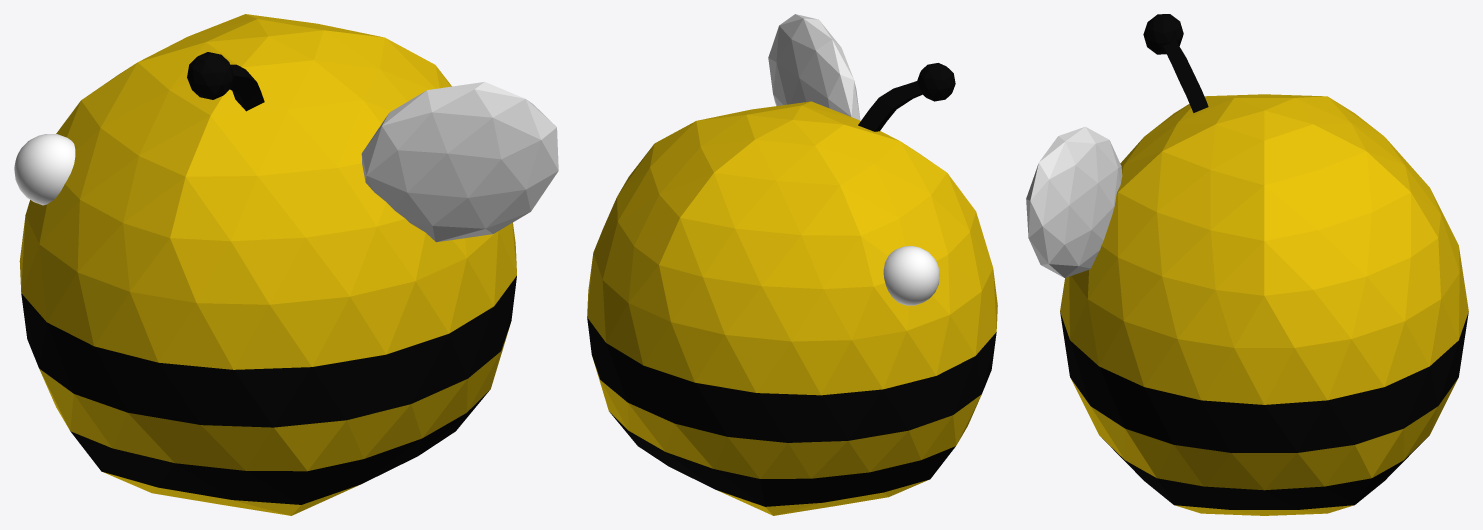
File: animbee.glb
3 views of the same model, side by side, from view 1: azimuth 30°, elevation 25°; view 2: azimuth 150°, elevation 25°; view 3: azimuth 270°, elevation 25° (orthographic). The views are drawn at different scales.
Parts seen in each view (by area): view 1: Body, Wings, Eye, Antennae; view 2: Body, Wings, Eye, Antennae; view 3: Body, Wings, Antennae.
Boxes of the visible parts, x1,y1,x2,y2 form: Body: [19, 14, 516, 515]; Wings: [361, 82, 558, 242]; Eye: [14, 134, 75, 205]; Antennae: [187, 52, 264, 111]; Body: [587, 101, 997, 515]; Wings: [768, 14, 860, 120]; Eye: [883, 246, 939, 305]; Antennae: [858, 63, 955, 131]; Body: [1060, 94, 1468, 515]; Wings: [1026, 126, 1122, 277]; Antennae: [1143, 14, 1208, 112].
Size of the model in its own units: 2 by 2.14 by 2.
